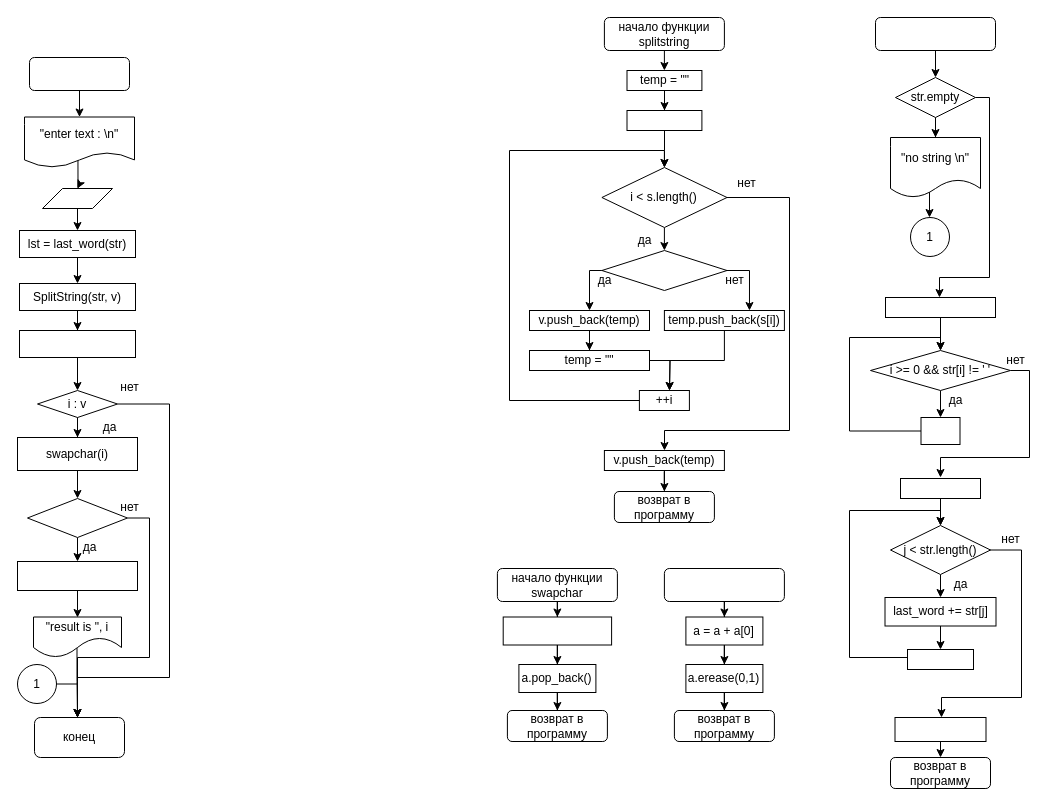
Image size: 1055x806. Some labels were removed from this diagram. Each missing label, with the box of its shape:
a.insert(0,1, a.back): (502, 616, 612, 645)
i != lst: (26, 498, 128, 538)
i = 0: (626, 110, 702, 130)
i = str.length() - 1: (884, 296, 996, 318)
i--: (920, 416, 960, 444)
j = i + 1: (900, 478, 980, 498)
j++: (906, 648, 974, 670)
return last_word: (894, 716, 986, 742)
rev_swapchar(i): (16, 560, 138, 590)
s[i] == ' ': (601, 250, 727, 290)
str: (42, 188, 112, 208)
v.pop_back(): (18, 330, 136, 358)
начало: (28, 56, 130, 90)
начало функции last_word: (874, 16, 996, 50)
начало функции rev_swapchar: (663, 568, 784, 602)
